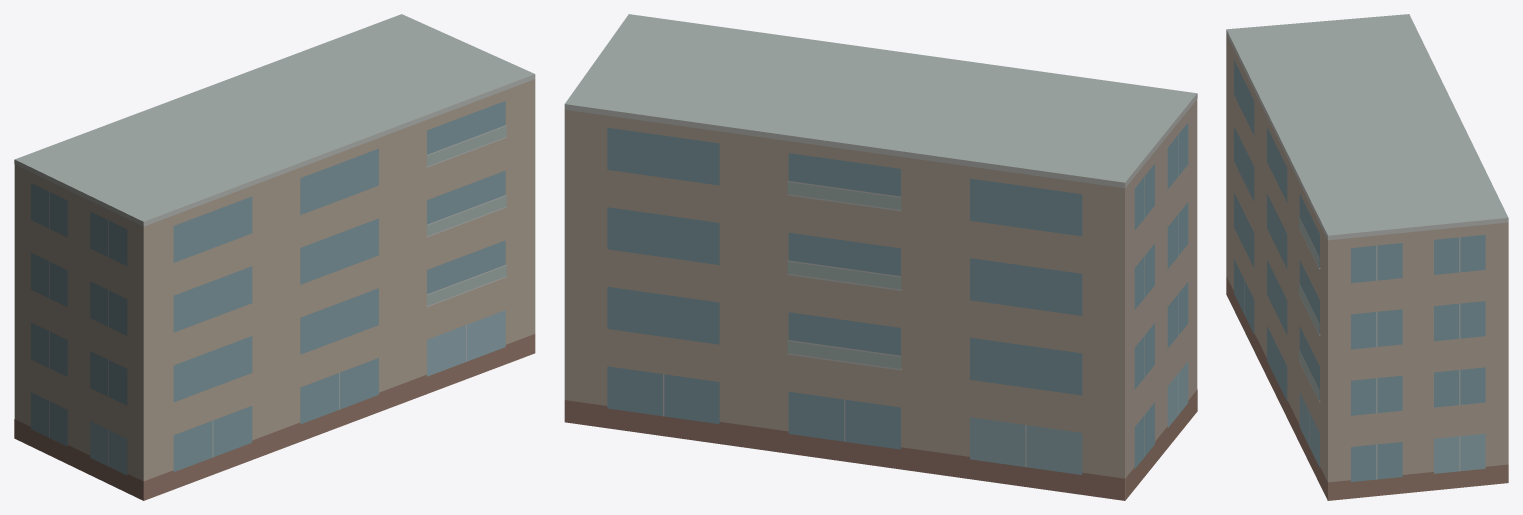
Rendered from survey-upis-32633485.glb.
The picture shows the model from 3 angles, left to right: view 1: azimuth 30°, elevation 25°; view 2: azimuth 150°, elevation 25°; view 3: azimuth 270°, elevation 25°; orthographic projection. The views are drawn at different scales.
Parts seen in each view (by area): view 1: survey-upis-32633485.tmp; view 2: survey-upis-32633485.tmp; view 3: survey-upis-32633485.tmp.
Boxes of the visible parts, x1,y1,x2,y2 form: survey-upis-32633485.tmp: (14,14,535,500); survey-upis-32633485.tmp: (564,14,1197,500); survey-upis-32633485.tmp: (1226,14,1508,500).
Size of the model in its own units: 24.93 by 13.9 by 13.41.
